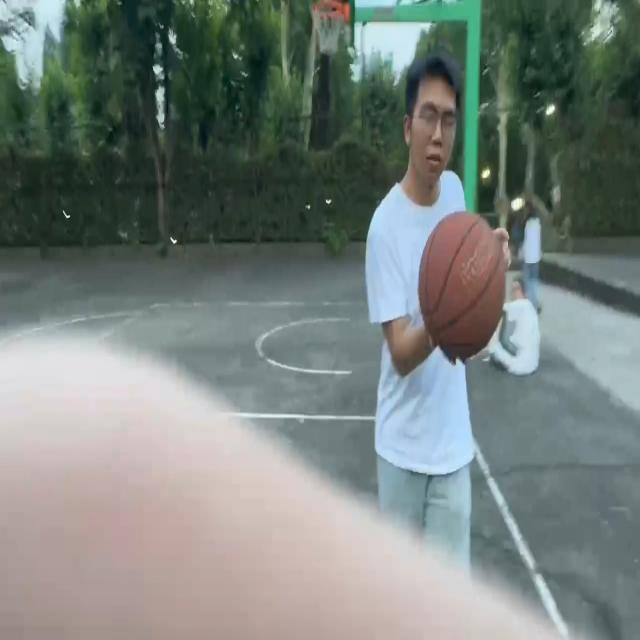basketball: (310, 0, 352, 58)
rim: (423, 212, 505, 349)
